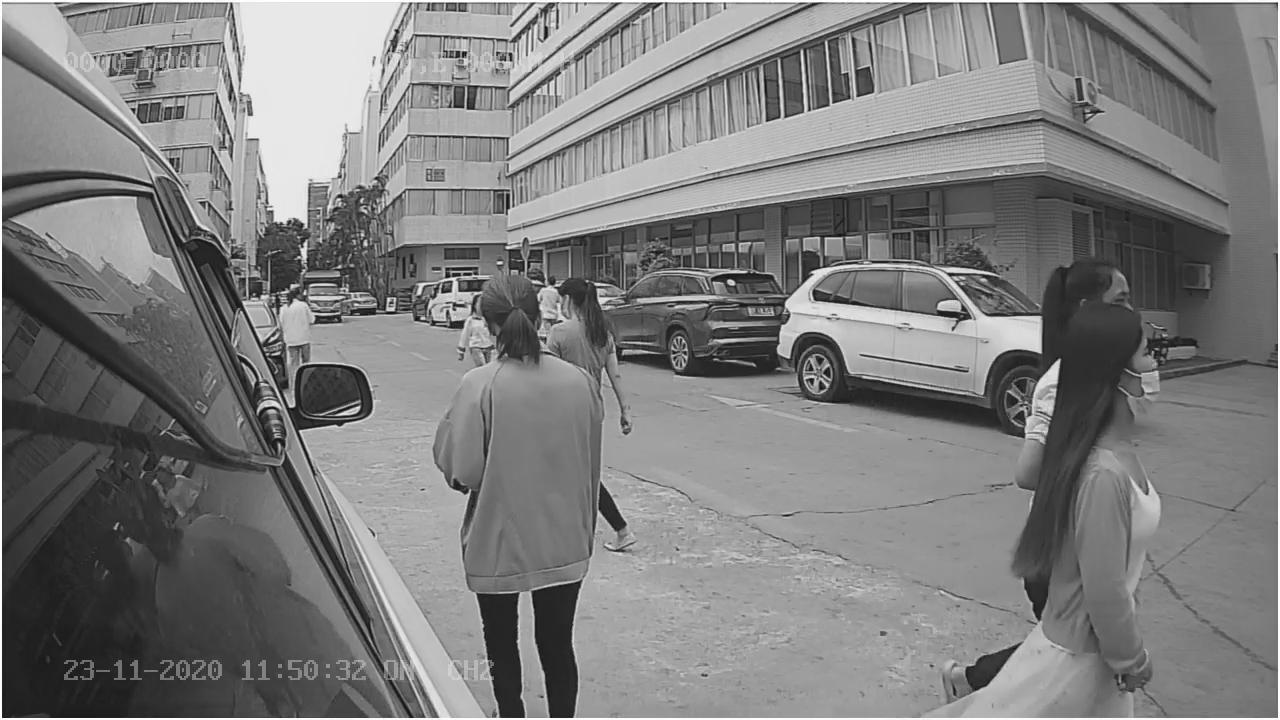person: (1028, 295, 1209, 693)
